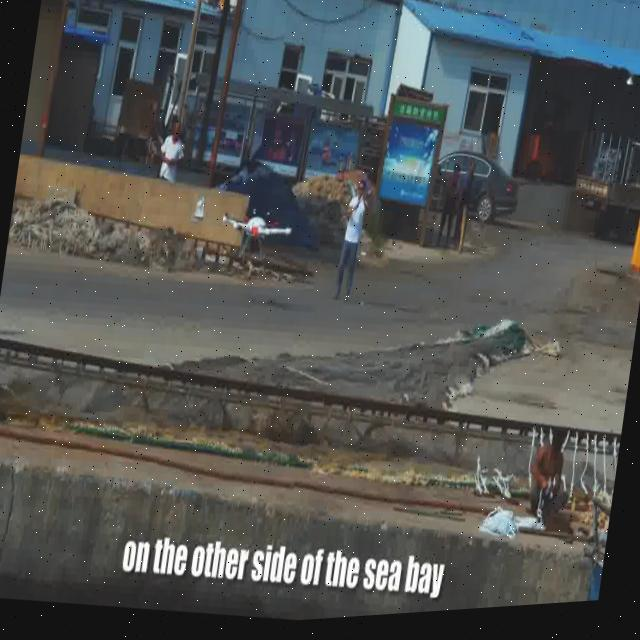drone: (214, 196, 296, 266)
